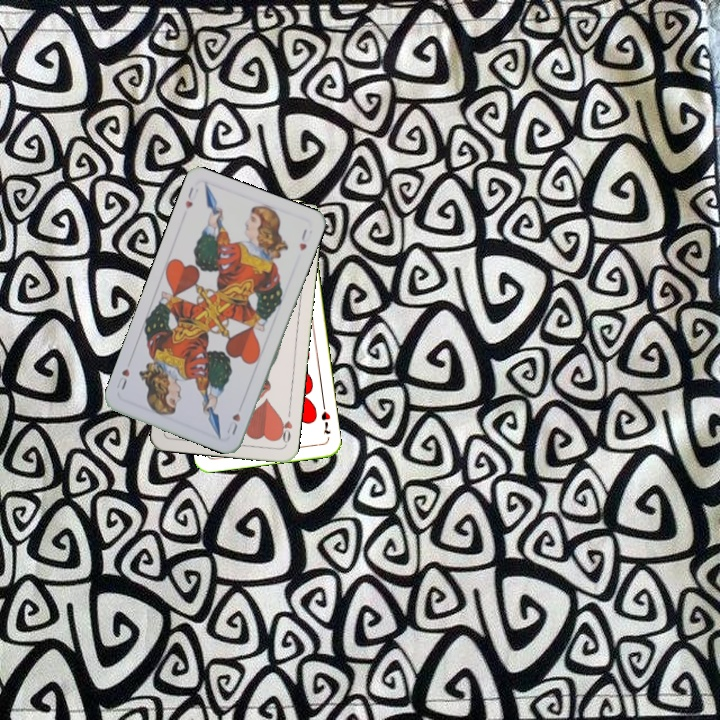H7: (317, 407, 333, 437)
HO: (275, 406, 295, 447)
HU: (223, 409, 243, 438), (181, 183, 201, 211)
